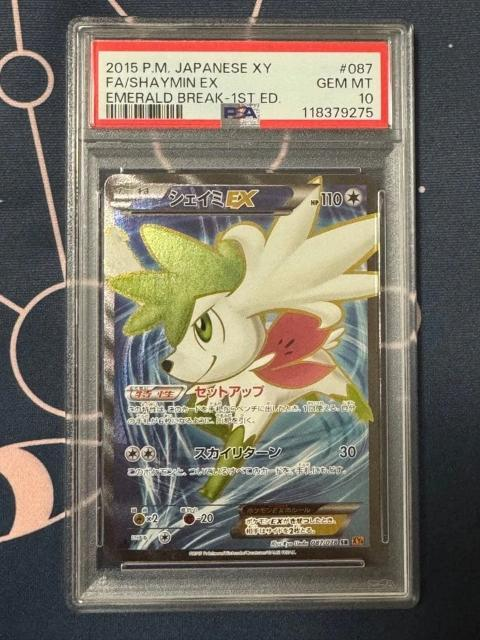Card: (97, 169, 388, 569)
Name: (161, 184, 265, 212)
